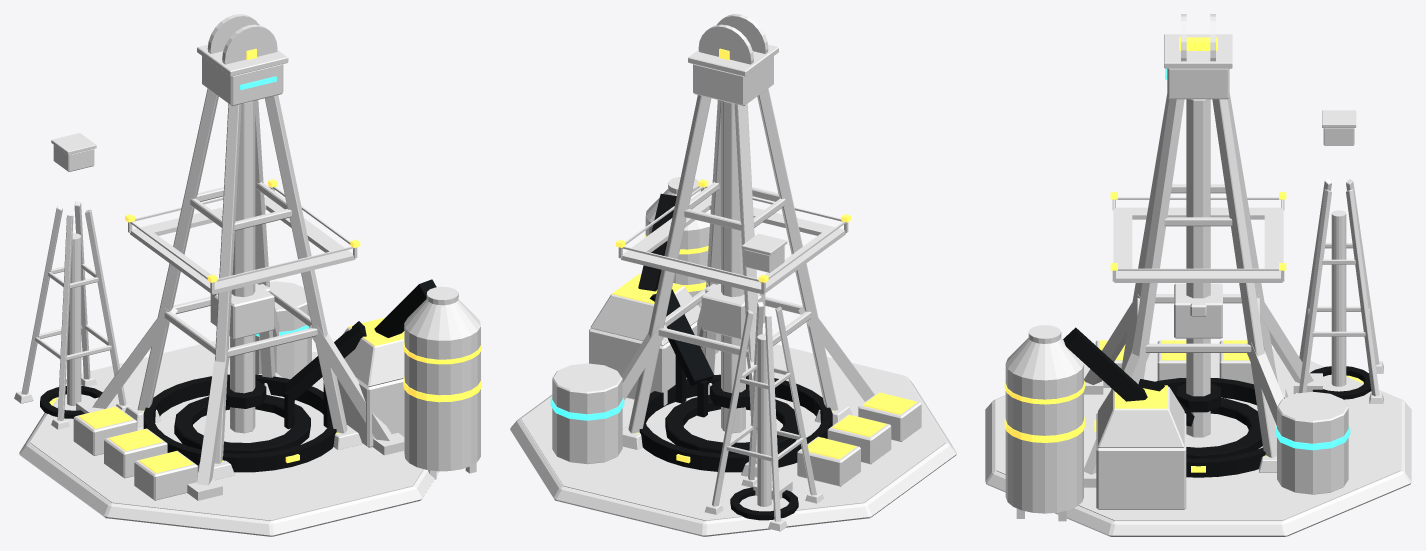
File: sb_mine_t2.glb
The picture shows the model from 3 angles, left to right: view 1: azimuth 30°, elevation 25°; view 2: azimuth 150°, elevation 25°; view 3: azimuth 270°, elevation 25°; orthographic projection. The views are drawn at different scales.
Parts seen in each view (by area): view 1: SM_MINE_DECK, SM_MINE_DERRICK, SM_MINE2_SILO, SM_MINE_BASE, SM_MINE2_STRUTS, SM_MINE2_AUX_DERRICK, SM_MINE2_PLATFORM, SM_MINE_SHAFT, SM_MINE_BINS, SM_MINE2_COLLAR_RING, SM_MINE_PIT_RIM, SM_MINE_HOPPER (+17 smaller); view 2: SM_MINE_DECK, SM_MINE_DERRICK, SM_MINE_BASE, SM_MINE2_AUX_DERRICK, SM_MINE_TANK, SM_MINE2_PLATFORM, SM_MINE_SHAFT, SM_MINE_BINS, SM_MINE2_STRUTS, SM_MINE2_COLLAR_RING, SM_MINE_HOPPER, SM_MINE_CONVEYOR (+19 smaller); view 3: SM_MINE_DECK, SM_MINE_DERRICK, SM_MINE2_SILO, SM_MINE_BASE, SM_MINE_TANK, SM_MINE_SHAFT, SM_MINE2_PLATFORM, SM_MINE_HOPPER, SM_MINE2_AUX_DERRICK, SM_MINE2_STRUTS, SM_MINE_HOPPER_TOP, SM_MINE2_AUX_SHAFT (+18 smaller).
Boxes of the visible parts, x1,y1,x2,y2 form: SM_MINE_DECK: [30, 340, 423, 520]; SM_MINE_DERRICK: [137, 88, 347, 463]; SM_MINE2_SILO: [404, 299, 480, 479]; SM_MINE_BASE: [19, 379, 439, 536]; SM_MINE2_STRUTS: [76, 283, 404, 500]; SM_MINE2_AUX_DERRICK: [21, 201, 126, 420]; SM_MINE2_PLATFORM: [128, 186, 357, 294]; SM_MINE_SHAFT: [230, 100, 255, 433]; SM_MINE_BINS: [73, 406, 197, 500]; SM_MINE2_COLLAR_RING: [143, 378, 336, 472]; SM_MINE_PIT_RIM: [174, 395, 310, 453]; SM_MINE_HOPPER: [337, 378, 404, 447]; SM_MINE_DECK: [521, 344, 945, 520]; SM_MINE_DERRICK: [628, 88, 838, 463]; SM_MINE_BASE: [510, 375, 956, 536]; SM_MINE2_AUX_DERRICK: [712, 302, 816, 521]; SM_MINE_TANK: [552, 363, 622, 464]; SM_MINE2_PLATFORM: [618, 186, 848, 294]; SM_MINE_SHAFT: [721, 100, 745, 433]; SM_MINE_BINS: [797, 392, 921, 486]; SM_MINE2_STRUTS: [621, 283, 874, 499]; SM_MINE2_COLLAR_RING: [639, 378, 832, 472]; SM_MINE_HOPPER: [589, 321, 702, 405]; SM_MINE_CONVEYOR: [650, 289, 714, 417]; SM_MINE_DECK: [996, 349, 1400, 520]; SM_MINE_DERRICK: [1121, 94, 1277, 457]; SM_MINE2_SILO: [1005, 337, 1083, 521]; SM_MINE_BASE: [985, 356, 1411, 536]; SM_MINE_TANK: [1277, 391, 1348, 494]; SM_MINE_SHAFT: [1186, 99, 1210, 437]; SM_MINE2_PLATFORM: [1112, 197, 1284, 282]; SM_MINE_HOPPER: [1096, 413, 1186, 509]; SM_MINE2_AUX_DERRICK: [1298, 179, 1379, 396]; SM_MINE2_STRUTS: [1084, 294, 1322, 487]; SM_MINE_HOPPER_TOP: [1098, 386, 1184, 447]; SM_MINE2_AUX_SHAFT: [1331, 210, 1346, 386].
Bounding box in the file's own units: 26.08 × 29.07 × 26.08.
